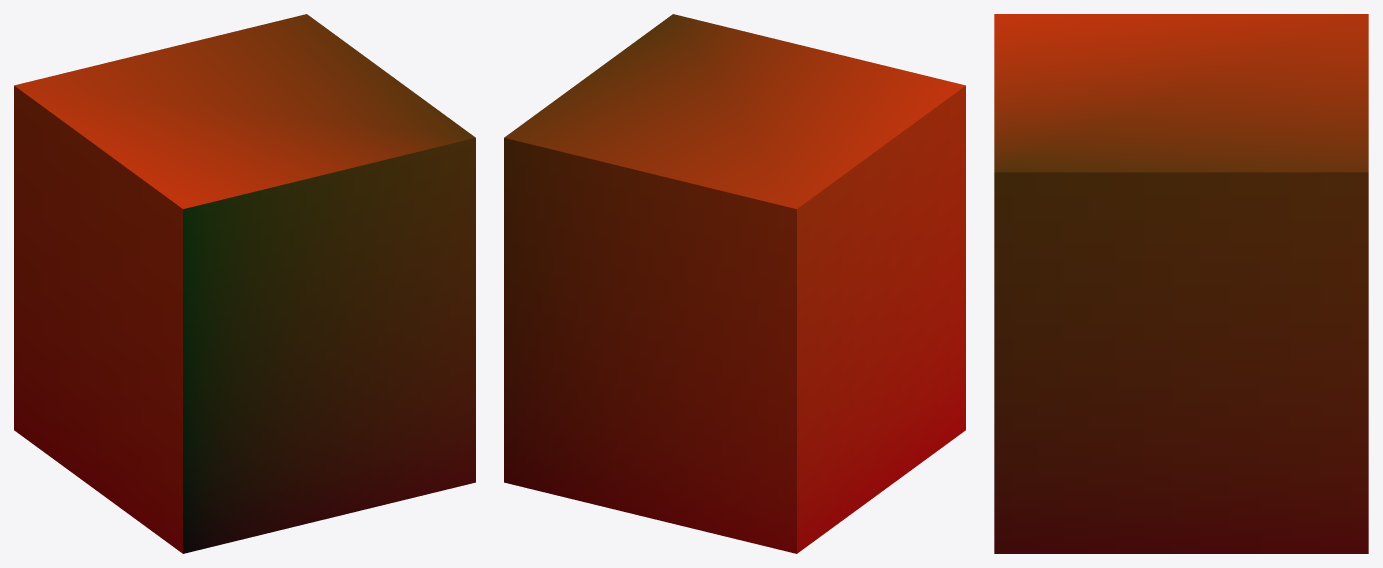
File: hole.fbx
3 renders of one model, left to right at view 1: azimuth 30°, elevation 25°; view 2: azimuth 150°, elevation 25°; view 3: azimuth 270°, elevation 25°, orthographic. The views are drawn at different scales.
Parts seen in each view (by area): view 1: Cube; view 2: Cube; view 3: Cube.
Part boxes in pixels (<box>): Cube: <box>14,14,475,553</box>; Cube: <box>504,14,965,553</box>; Cube: <box>994,14,1368,553</box>.
Size of the model in its own units: 100 by 123 by 100.
